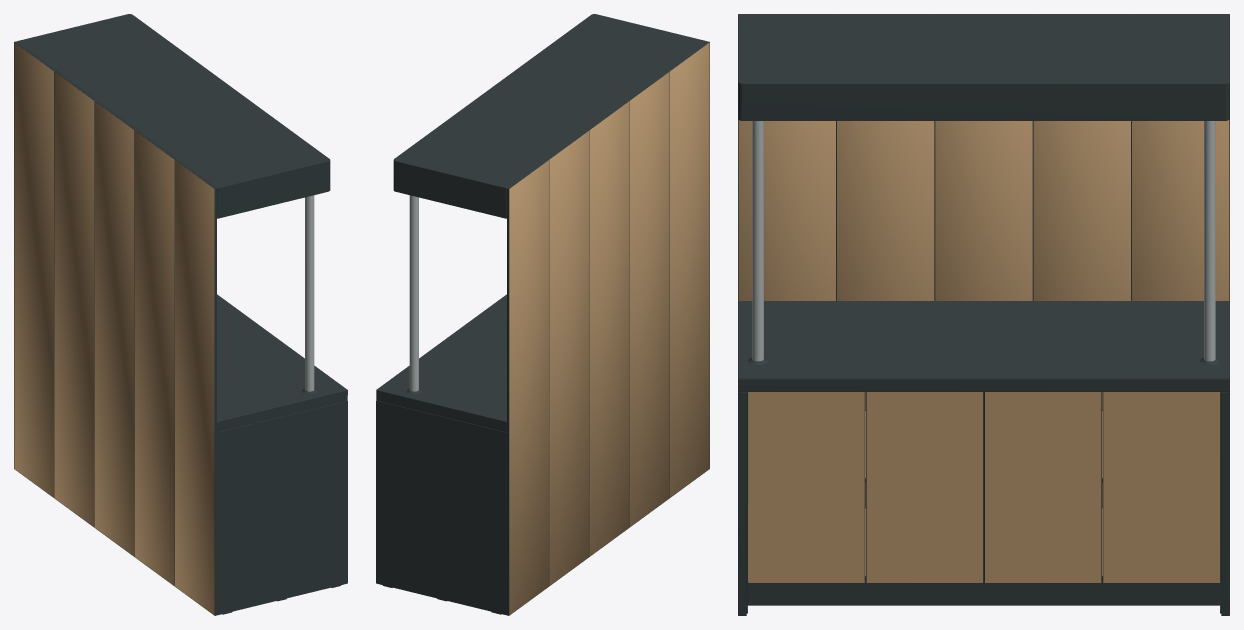
Rendered from furniture_counter_coffeeStation_a01.glb.
The picture shows the model from 3 angles, left to right: view 1: azimuth 30°, elevation 25°; view 2: azimuth 150°, elevation 25°; view 3: azimuth 270°, elevation 25°; orthographic projection. The views are drawn at different scales.
Size of the model in its own units: 0.65 by 2 by 1.7.
